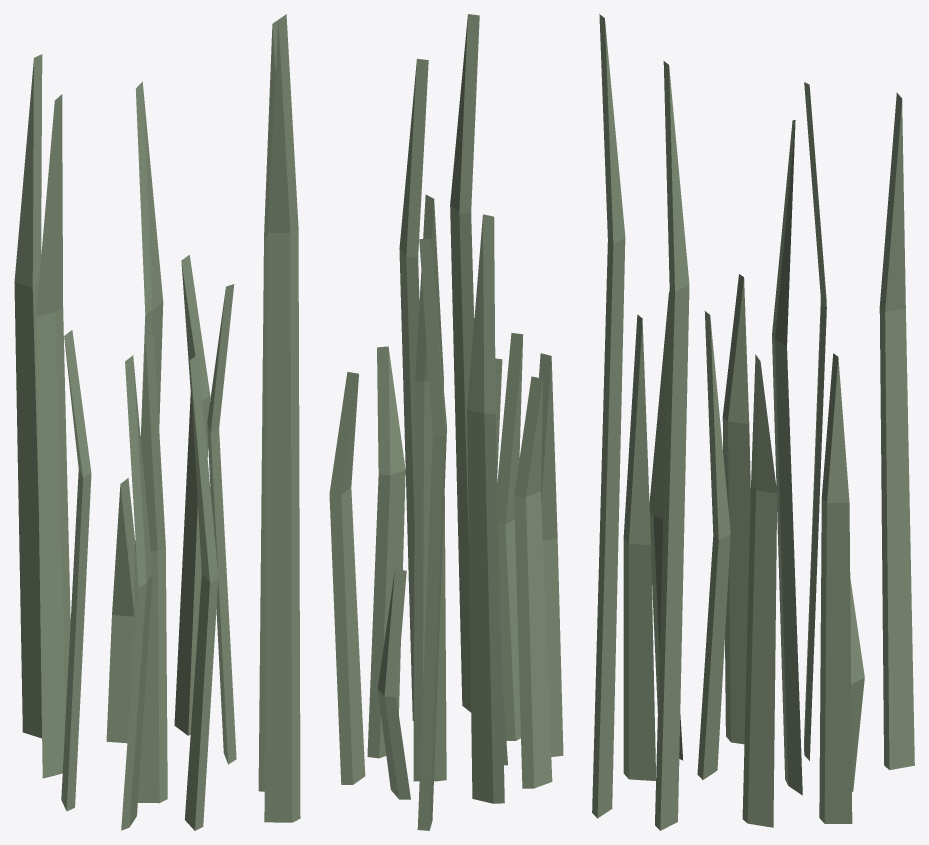
The model's file is model_grass-2.glb.
3 views of the same model, side by side, from view 1: azimuth 30°, elevation 25°; view 2: azimuth 150°, elevation 25°; view 3: azimuth 270°, elevation 25° (orthographic). The views are drawn at different scales.
Parts seen in each view (by area): view 1: Grass_2; view 2: Grass_2; view 3: Grass_2.
Part boxes in pixels (bbox=[...]): Grass_2: bbox=[14, 14, 300, 830]; Grass_2: bbox=[329, 14, 563, 830]; Grass_2: bbox=[592, 14, 914, 830].
Bounding box in the file's own units: 0.3162 × 1.2 × 0.4417.
